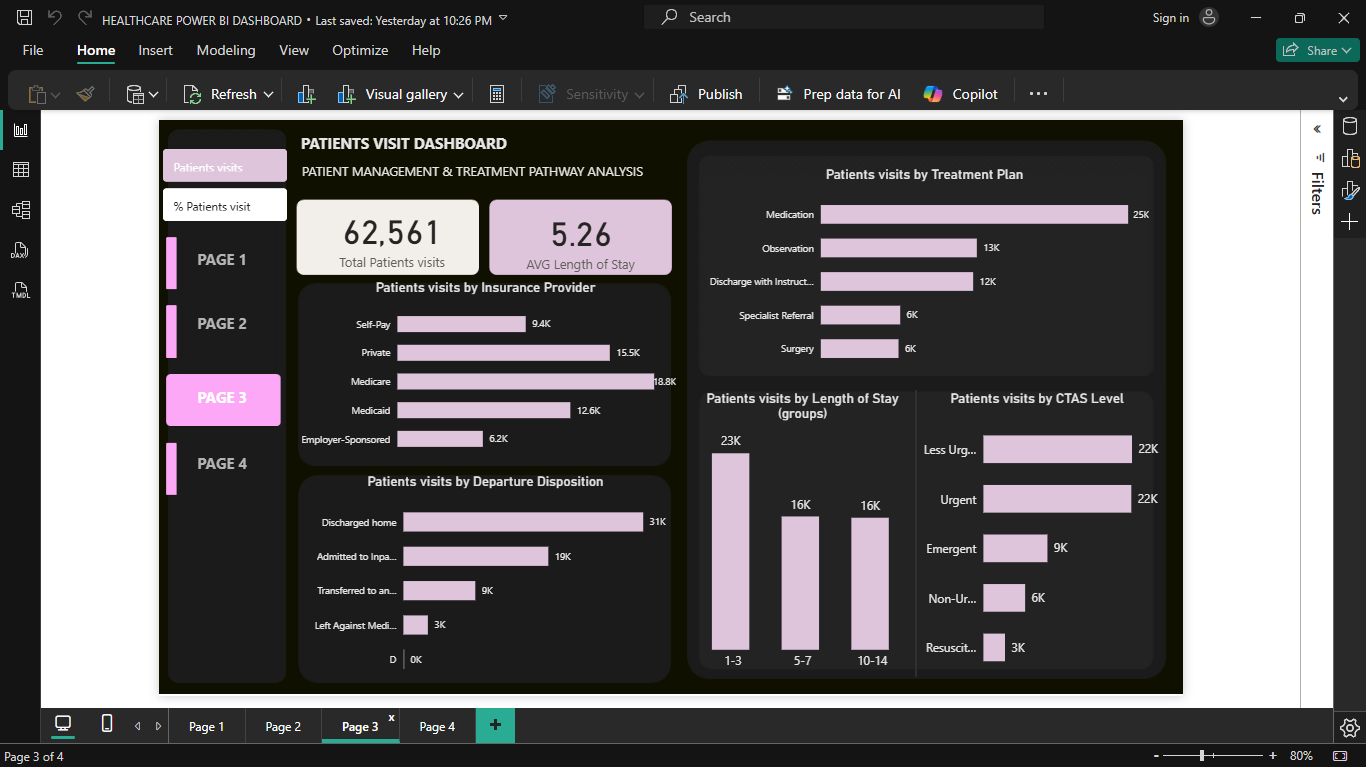

The page's visual inventory and layout, read from the dashboard file:
{"tool":"powerbi","page":{"name":"Page 3","canvas":[1280,720],"ordinal":2},"visuals":[{"type":"card","fields":{"Values":["DAX House.Total Patients visits"]},"box":[177.8,95.5,227.8,102.9],"z":0},{"type":"card","fields":{"Values":["DAX House.AVG Length of Stay"]},"box":[414.4,97,226.3,101.4],"z":1000},{"type":"clusteredBarChart","fields":{"Y":["DAX House.Total Patients visits"],"Category":["Patient Data.Insurance Provider"]},"box":[164.6,198.4,486.4,230.7],"z":2000},{"type":"advancedSlicerVisual","fields":{"Values":["Values/Percentage.Values/Percentage"]},"box":[0,31.7,165,101.7],"z":3000},{"type":"clusteredBarChart","fields":{"Y":["DAX House.Total Patients visits"],"Category":["Patient Data.Departure Disposition"]},"box":[177.8,440.8,461.4,268.9],"z":4000},{"type":"clusteredBarChart","fields":{"Y":["DAX House.Total Patients visits"],"Category":["Patient Data.Treatment Plan"]},"box":[671.4,57.1,571.4,263.5],"z":5000},{"type":"clusteredBarChart","fields":{"Y":["DAX House.Total Patients visits"],"Category":["Patient Data.CTAS Level"]},"box":[938.1,338.1,320.6,371.4],"z":6000},{"type":"clusteredColumnChart","fields":{"Y":["DAX House.Total Patients visits"],"Category":["Patient Data.Length of Stay (groups)"]},"box":[650.8,338.1,306.3,358.7],"z":7000},{"type":"shape","box":[938.1,338.1,17.5,358.7],"z":8000},{"type":"actionButton","box":[19.1,148.4,120.5,50],"z":9000},{"type":"actionButton","box":[19.1,229.2,120.5,50],"z":10000},{"type":"actionButton","box":[19.1,404.1,120.5,50],"z":11000},{"type":"actionButton","box":[19.1,321.8,120.5,50],"z":12000},{"type":"textbox","box":[171.9,11.8,470.2,39.7],"z":13000},{"type":"textbox","box":[173.4,47,470.2,39.7],"z":14000}]}

Visuals, with their boxes on the page's 1280x720 design canvas (x1, y1, x2, y2). These are canvas units, not pixel positions in the 1366x767 screenshot, which may show the page scaled, cropped or inside an application window:
card - DAX House.Total Patients visits: locate(178, 96, 406, 198)
card - DAX House.AVG Length of Stay: locate(414, 97, 641, 198)
clusteredBarChart - DAX House.Total Patients visits x Patient Data.Insurance Provider: locate(165, 198, 651, 429)
advancedSlicerVisual - Values/Percentage.Values/Percentage: locate(0, 32, 165, 133)
clusteredBarChart - DAX House.Total Patients visits x Patient Data.Departure Disposition: locate(178, 441, 639, 710)
clusteredBarChart - DAX House.Total Patients visits x Patient Data.Treatment Plan: locate(671, 57, 1243, 321)
clusteredBarChart - DAX House.Total Patients visits x Patient Data.CTAS Level: locate(938, 338, 1259, 710)
clusteredColumnChart - DAX House.Total Patients visits x Patient Data.Length of Stay (groups): locate(651, 338, 957, 697)
shape: locate(938, 338, 956, 697)
actionButton: locate(19, 148, 140, 198)
actionButton: locate(19, 229, 140, 279)
actionButton: locate(19, 404, 140, 454)
actionButton: locate(19, 322, 140, 372)
textbox: locate(172, 12, 642, 52)
textbox: locate(173, 47, 644, 87)
